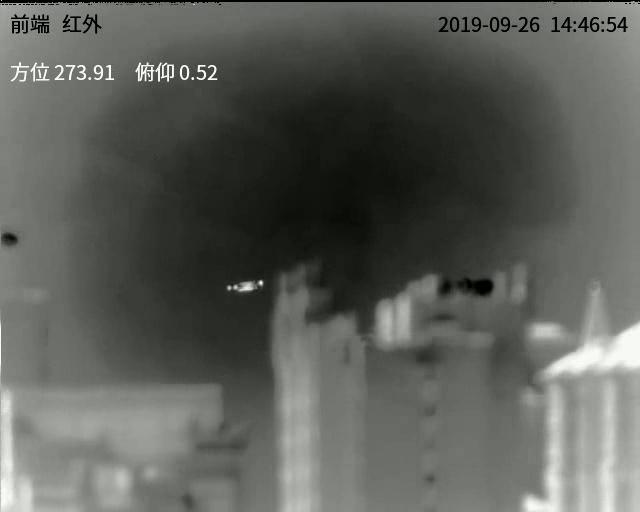DRONE: (225, 279, 265, 293)
